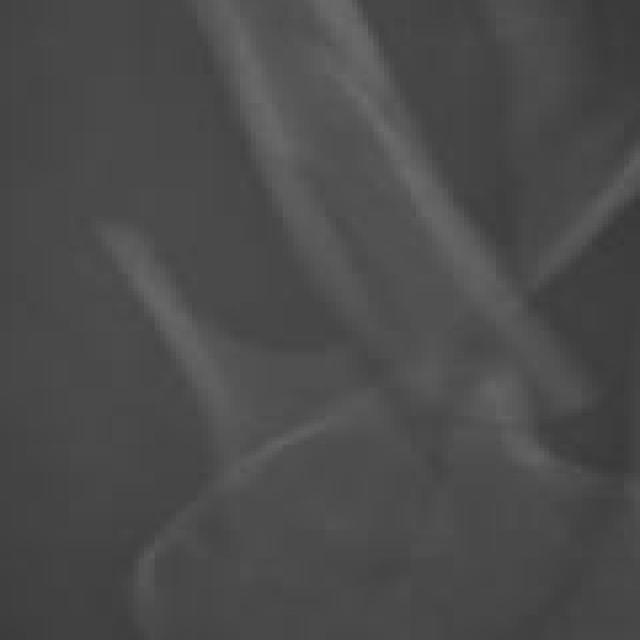fracture: (3, 0, 640, 639)
